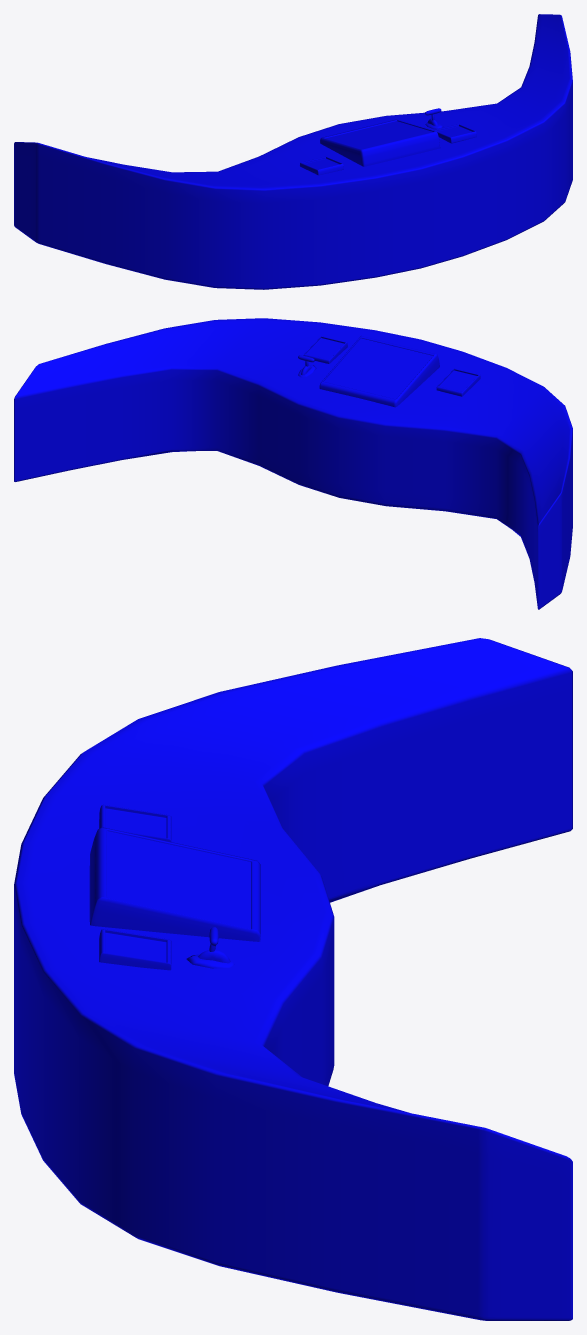
Rendered from astronaut_panel.gltf.
3 views of the same model, one above another, from view 1: azimuth 30°, elevation 25°; view 2: azimuth 150°, elevation 25°; view 3: azimuth 270°, elevation 25° (orthographic). The views are drawn at different scales.
Parts seen in each view (by area): view 1: blue; view 2: blue; view 3: blue.
Part boxes in pixels (x1,y1,x2,y2): blue: [14, 14, 572, 289]; blue: [14, 318, 572, 609]; blue: [14, 638, 572, 1320].
Size of the model in its own units: 6.47 by 1.32 by 3.11.
